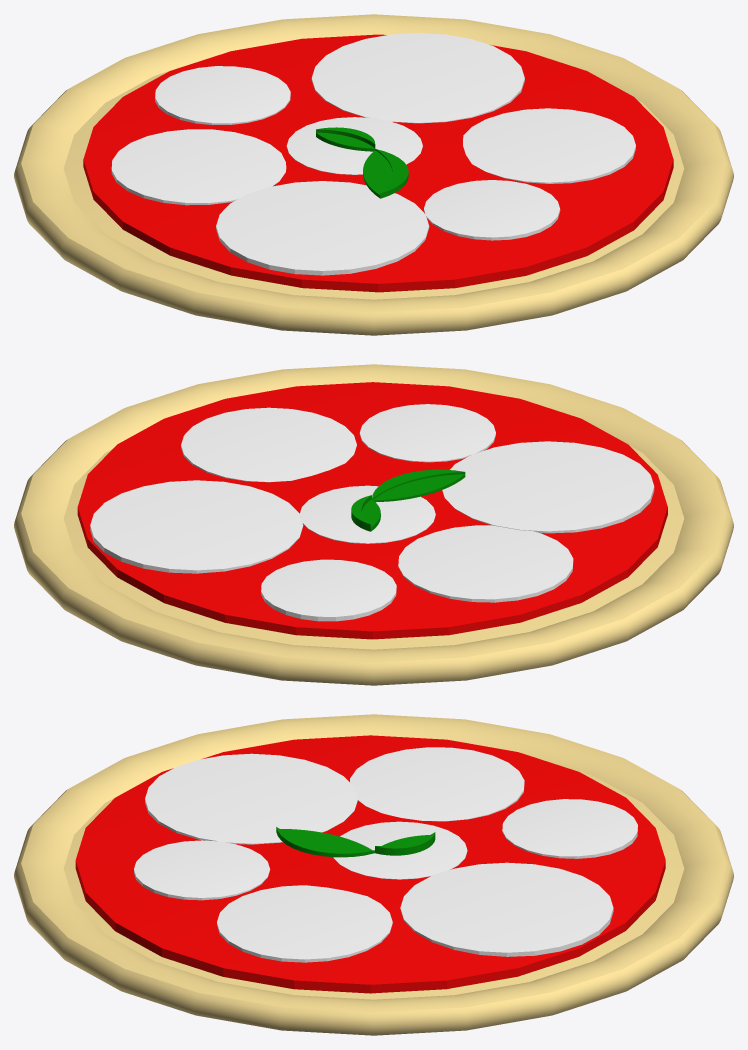
Rendered from pizzaHub.dae.
The picture shows the model from 3 angles, top to bottom: view 1: azimuth 30°, elevation 25°; view 2: azimuth 150°, elevation 25°; view 3: azimuth 270°, elevation 25°; orthographic projection.
Visible parts, largest first — view 1: group_0 (×2), group_6, group_2, group_8, group_4, group_3, group_5, group_7, group_9, group_10; view 2: group_0 (×2), group_6, group_8, group_2, group_4, group_3, group_7, group_5, group_9, group_10; view 3: group_0 (×2), group_6, group_8, group_2, group_3, group_4, group_7, group_5, group_9, group_10.
Part boxes in pixels (x1=…): group_0 (×2): x1=14, y1=14, x2=733, y2=335; group_6: x1=83, y1=34, x2=673, y2=292; group_2: x1=216, y1=181, x2=429, y2=275; group_8: x1=311, y1=33, x2=524, y2=123; group_4: x1=111, y1=129, x2=286, y2=205; group_3: x1=463, y1=108, x2=635, y2=183; group_5: x1=424, y1=180, x2=560, y2=240; group_7: x1=155, y1=66, x2=290, y2=124; group_9: x1=286, y1=117, x2=422, y2=174; group_10: x1=316, y1=127, x2=408, y2=198; group_0 (×2): x1=14, y1=364, x2=733, y2=685; group_6: x1=77, y1=382, x2=667, y2=639; group_8: x1=90, y1=480, x2=303, y2=573; group_2: x1=442, y1=441, x2=654, y2=533; group_4: x1=398, y1=525, x2=573, y2=602; group_3: x1=181, y1=407, x2=356, y2=482; group_7: x1=261, y1=559, x2=396, y2=621; group_5: x1=359, y1=404, x2=495, y2=462; group_9: x1=299, y1=485, x2=435, y2=543; group_10: x1=351, y1=469, x2=465, y2=531; group_0 (×2): x1=14, y1=714, x2=733, y2=1035; group_6: x1=75, y1=735, x2=665, y2=993; group_8: x1=400, y1=862, x2=613, y2=956; group_2: x1=145, y1=753, x2=357, y2=844; group_3: x1=217, y1=885, x2=392, y2=962; group_4: x1=350, y1=747, x2=524, y2=821; group_7: x1=502, y1=799, x2=637, y2=858; group_5: x1=134, y1=840, x2=270, y2=900; group_9: x1=333, y1=821, x2=467, y2=879; group_10: x1=276, y1=827, x2=435, y2=857.
Bounding box in the file's own units: 440 × 440 × 26.7.
